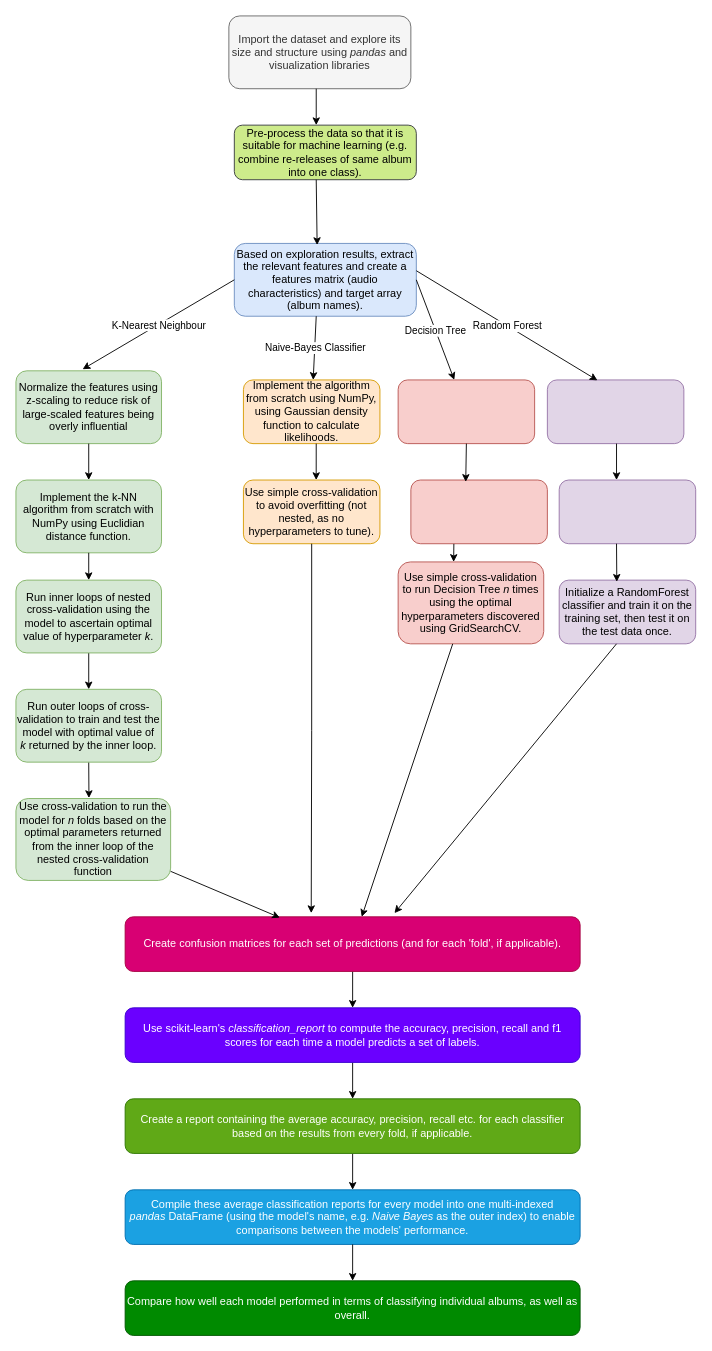
Image size: 712x1351. Some labels were removed from this diagram. Here are the shapes that lost their labels. From the top down, the centre of each, then its label:
At point 466,411: "Import the scikit-learn DecisionTreeClassifier model".
At point 615,411: "Import tthe RandomForestClassifier from scikit-learn".
At point 478,511: "Optimize hyperparameters using scikit-learn's GridSearchCV feature".
At point 627,511: "Optimize hyperparameters using GridSearchCV".
